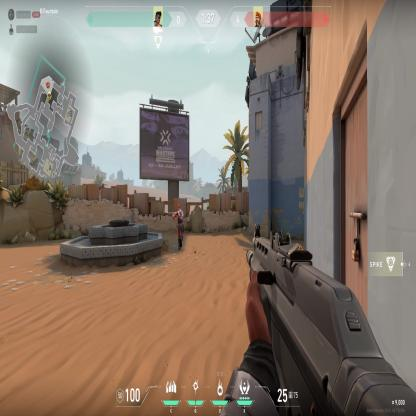enemy: (175, 203, 185, 254)
